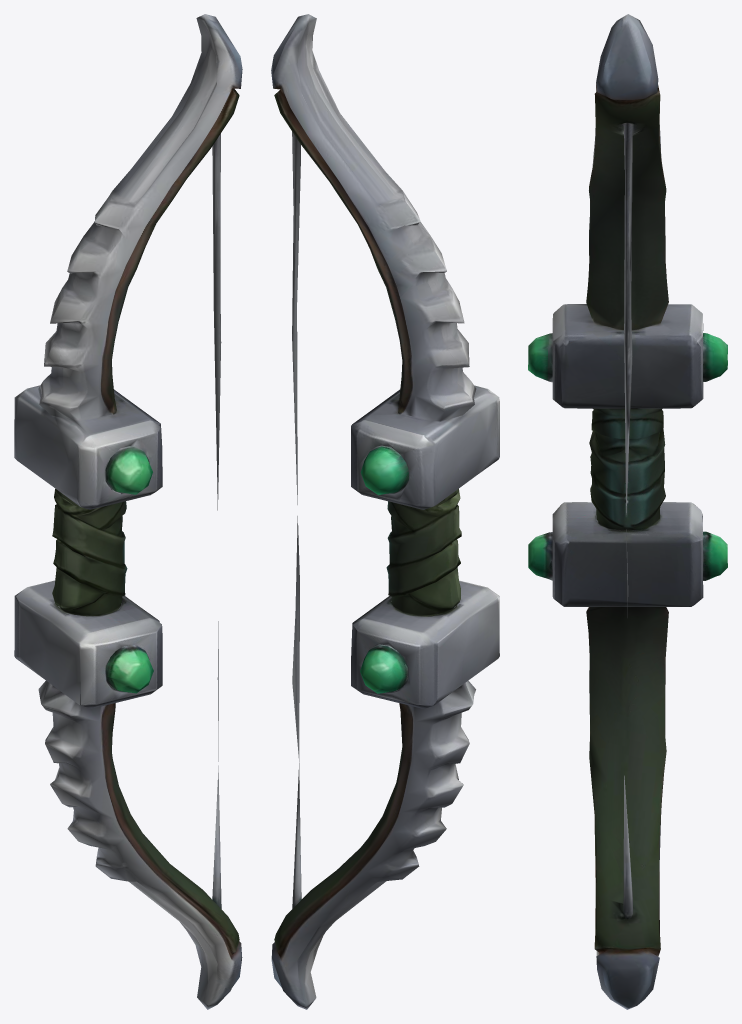
Rendered from w_hunter--bow.glb.
3 views of the same model, side by side, from view 1: azimuth 30°, elevation 25°; view 2: azimuth 150°, elevation 25°; view 3: azimuth 270°, elevation 25° (orthographic).
Visible parts, largest first — view 1: Weapon; view 2: Weapon; view 3: Weapon.
Boxes of the visible parts, x1,y1,x2,y2 form: Weapon: [14, 14, 242, 1009]; Weapon: [271, 14, 499, 1009]; Weapon: [528, 14, 727, 1009].
Bounding box in the file's own units: 0.2013 × 0.9883 × 0.1799.
Materials: 1 (1 with a texture image).
